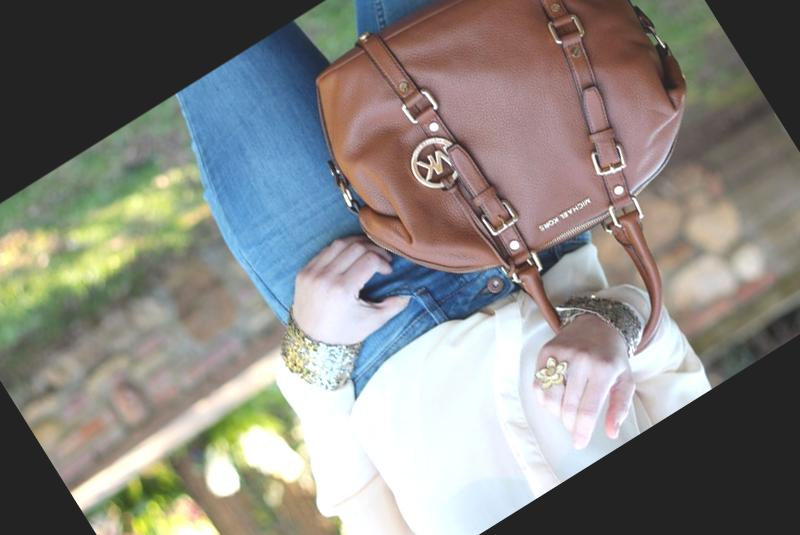MICHAEL-KORS: (536, 195, 590, 233)
